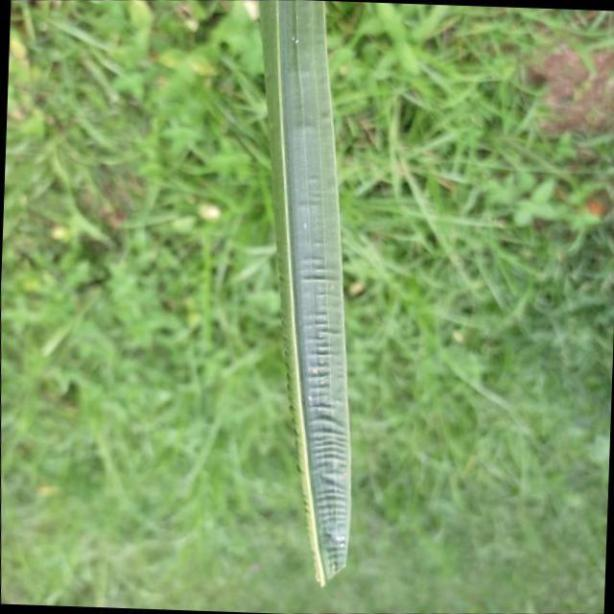Boron: (260, 2, 360, 590)
